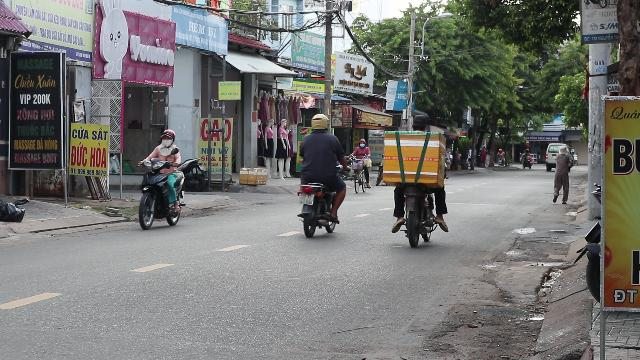helmet: (310, 113, 330, 131), (159, 129, 175, 147)
licenseplate: (298, 194, 314, 204)
motorcyclist: (382, 112, 452, 246), (294, 112, 348, 236), (135, 128, 187, 228)
nohelmet: (411, 113, 429, 131)
